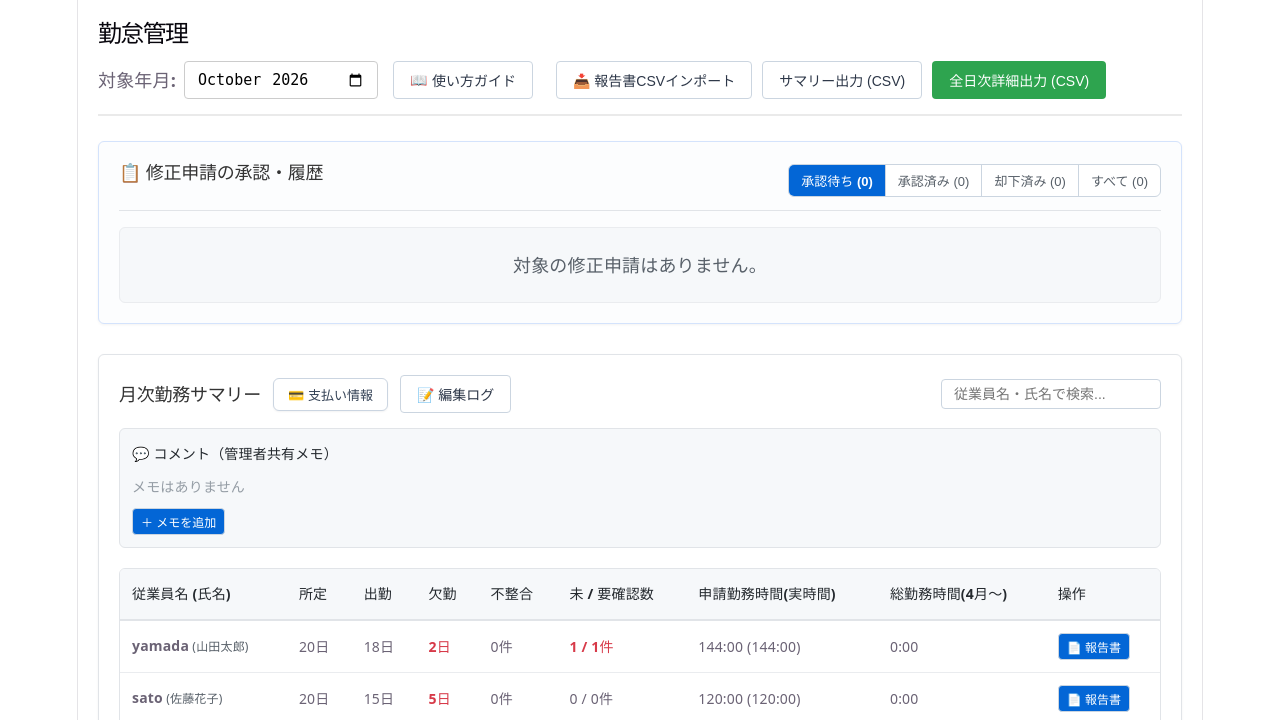
Test: AttendancePage - Search › 管理者画面で検索ワードを入力すると、合致する従業員のみが表示されること
The image size is (1280, 720).
Expected: the text "yamada" is shown, [132,636,189,655]
Expected: the text "sato" is shown, [132,688,163,707]
Type "山田" into the field with placeholder "従業員名・氏名で検索..." at (1051, 394), box [941,379,1161,409]
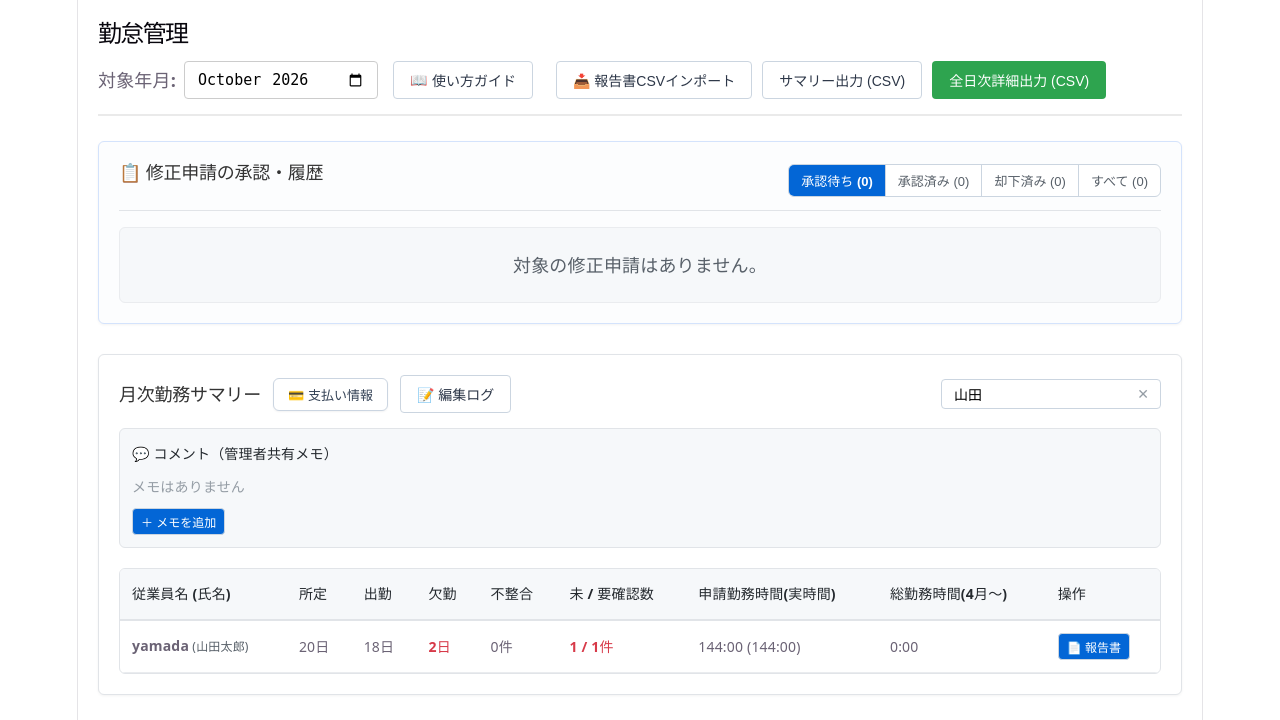
Expected: the text "yamada" is shown, [132,636,189,655]
Expected: the text "sato" is not shown
Note: 検索ワードをクリア
Clear the field with placeholder "従業員名・氏名で検索..." at (1051, 394), box [941,379,1161,409]
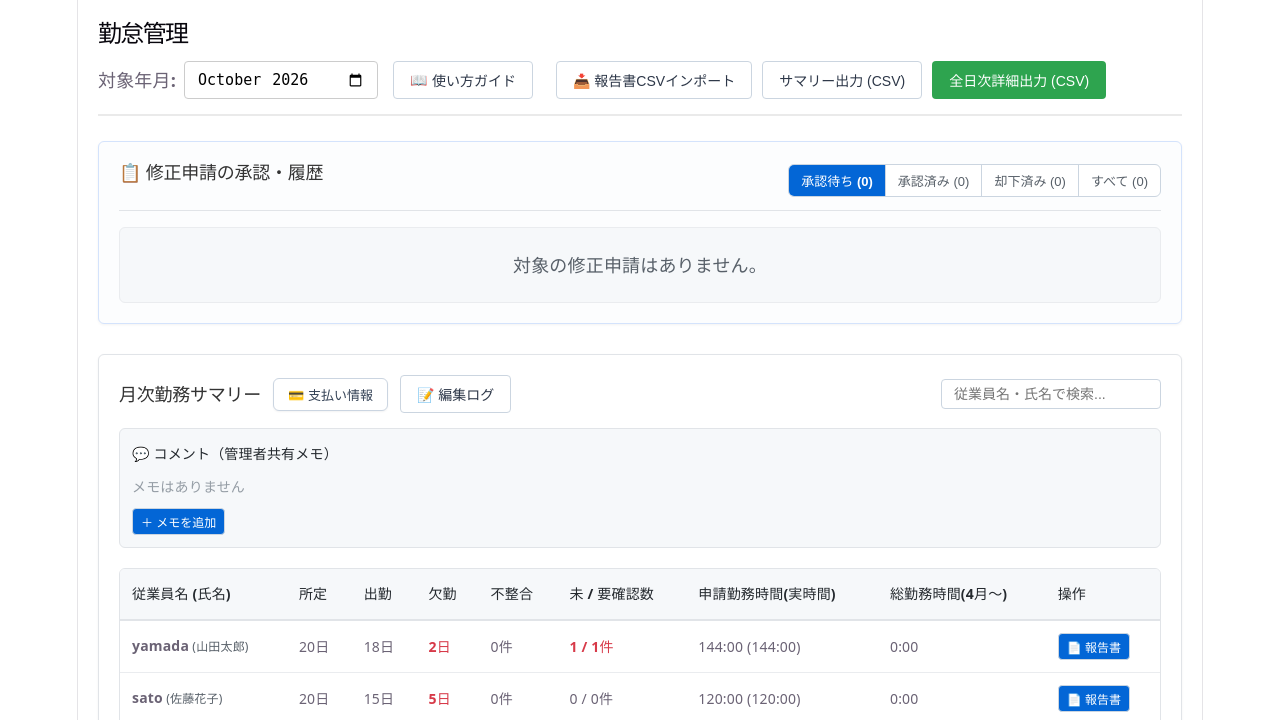
Expected: the text "yamada" is shown, [132,636,189,655]
Expected: the text "sato" is shown, [132,688,163,707]
